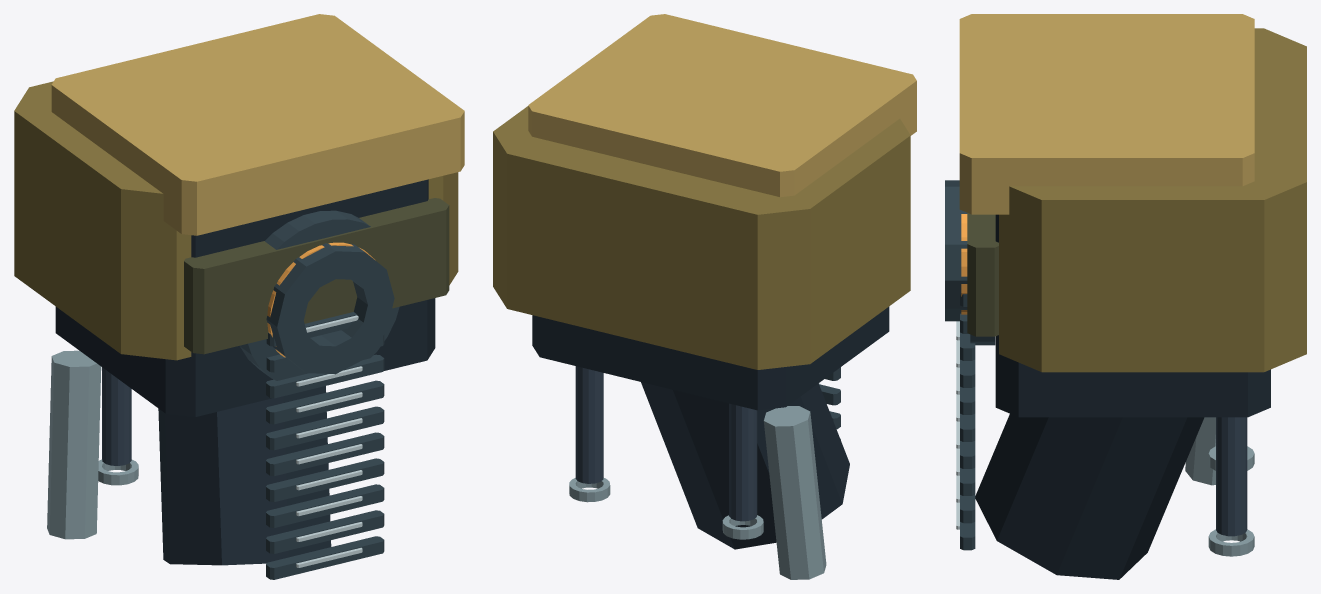
The model's file is enemy_gunner_4k_upper_arm_l.obj.
3 renders of one model, left to right at view 1: azimuth 30°, elevation 25°; view 2: azimuth 150°, elevation 25°; view 3: azimuth 270°, elevation 25°, orthographic. The views are drawn at different scales.
Bounding box in the file's own units: 0.62 × 0.8144 × 0.5525.
